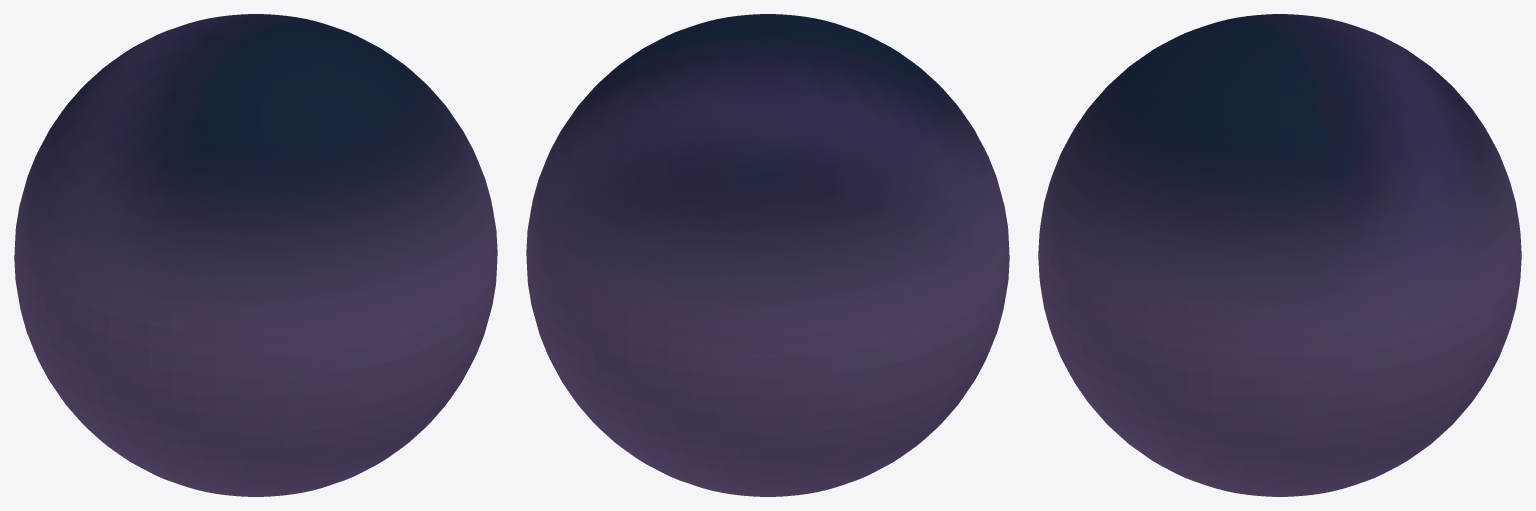
The model's file is love-island-star-dome.glb.
3 views of the same model, side by side, from view 1: azimuth 30°, elevation 25°; view 2: azimuth 150°, elevation 25°; view 3: azimuth 270°, elevation 25° (orthographic).
Parts seen in each view (by area): view 1: NightDome; view 2: NightDome; view 3: NightDome.
Boxes of the visible parts, x1=… form: NightDome: x1=14, y1=14, x2=497, y2=496; NightDome: x1=526, y1=14, x2=1009, y2=496; NightDome: x1=1038, y1=14, x2=1521, y2=496.
Bounding box in the file's own units: 200 × 200 × 200.
